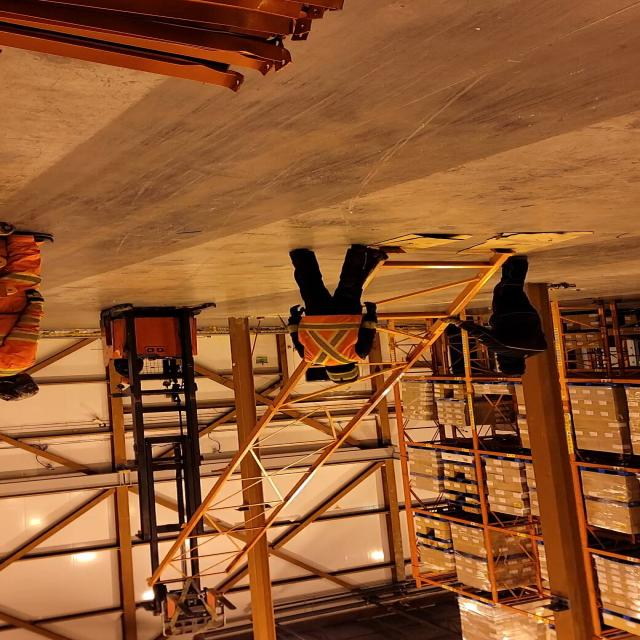forklift: (94, 302, 222, 469)
human: (442, 246, 553, 378), (286, 242, 377, 387), (0, 231, 61, 403), (102, 350, 164, 384)
objectofinterest: (140, 245, 525, 589), (453, 229, 598, 256), (354, 232, 481, 256)
